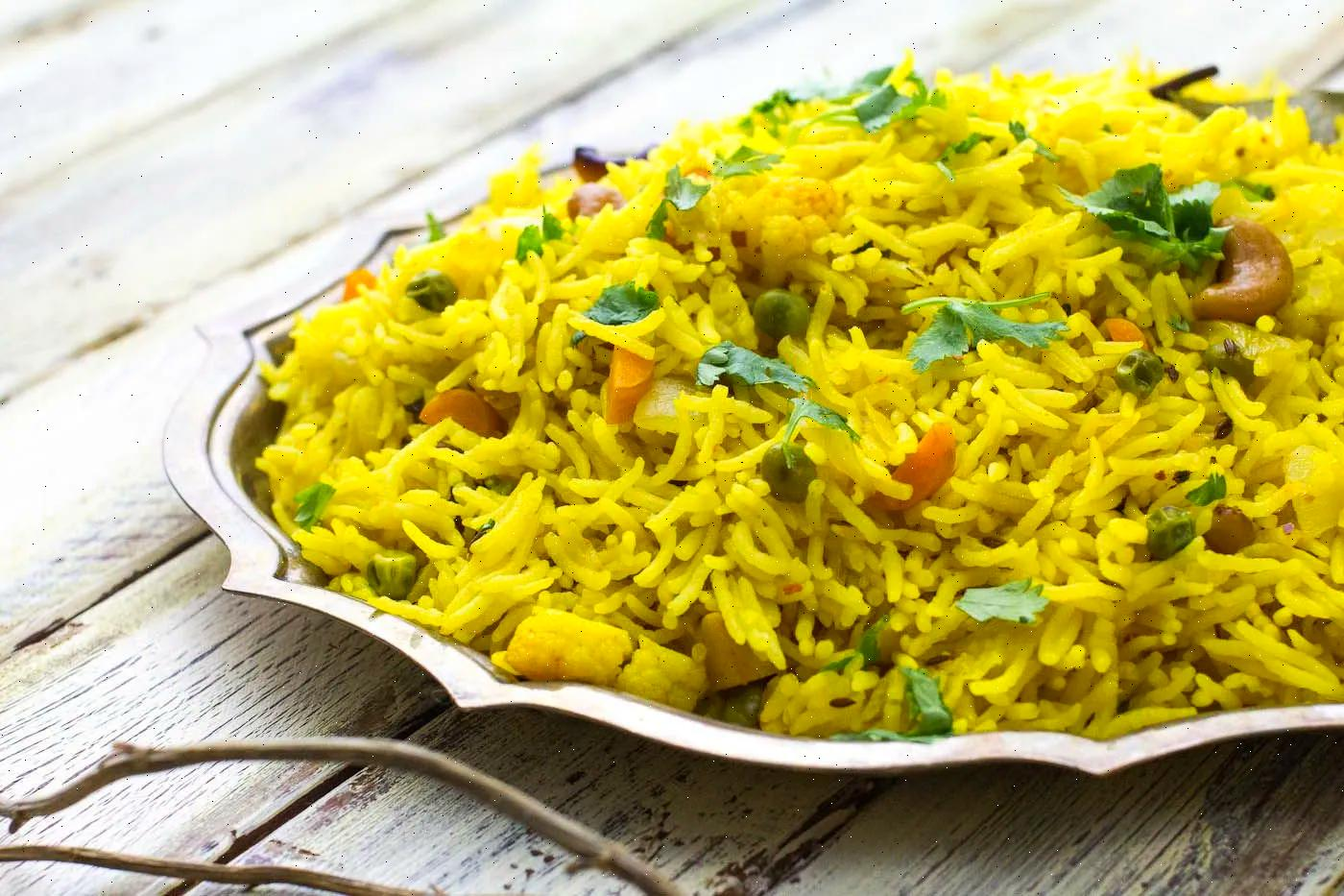veg-pulao: (288, 67, 1344, 739)
